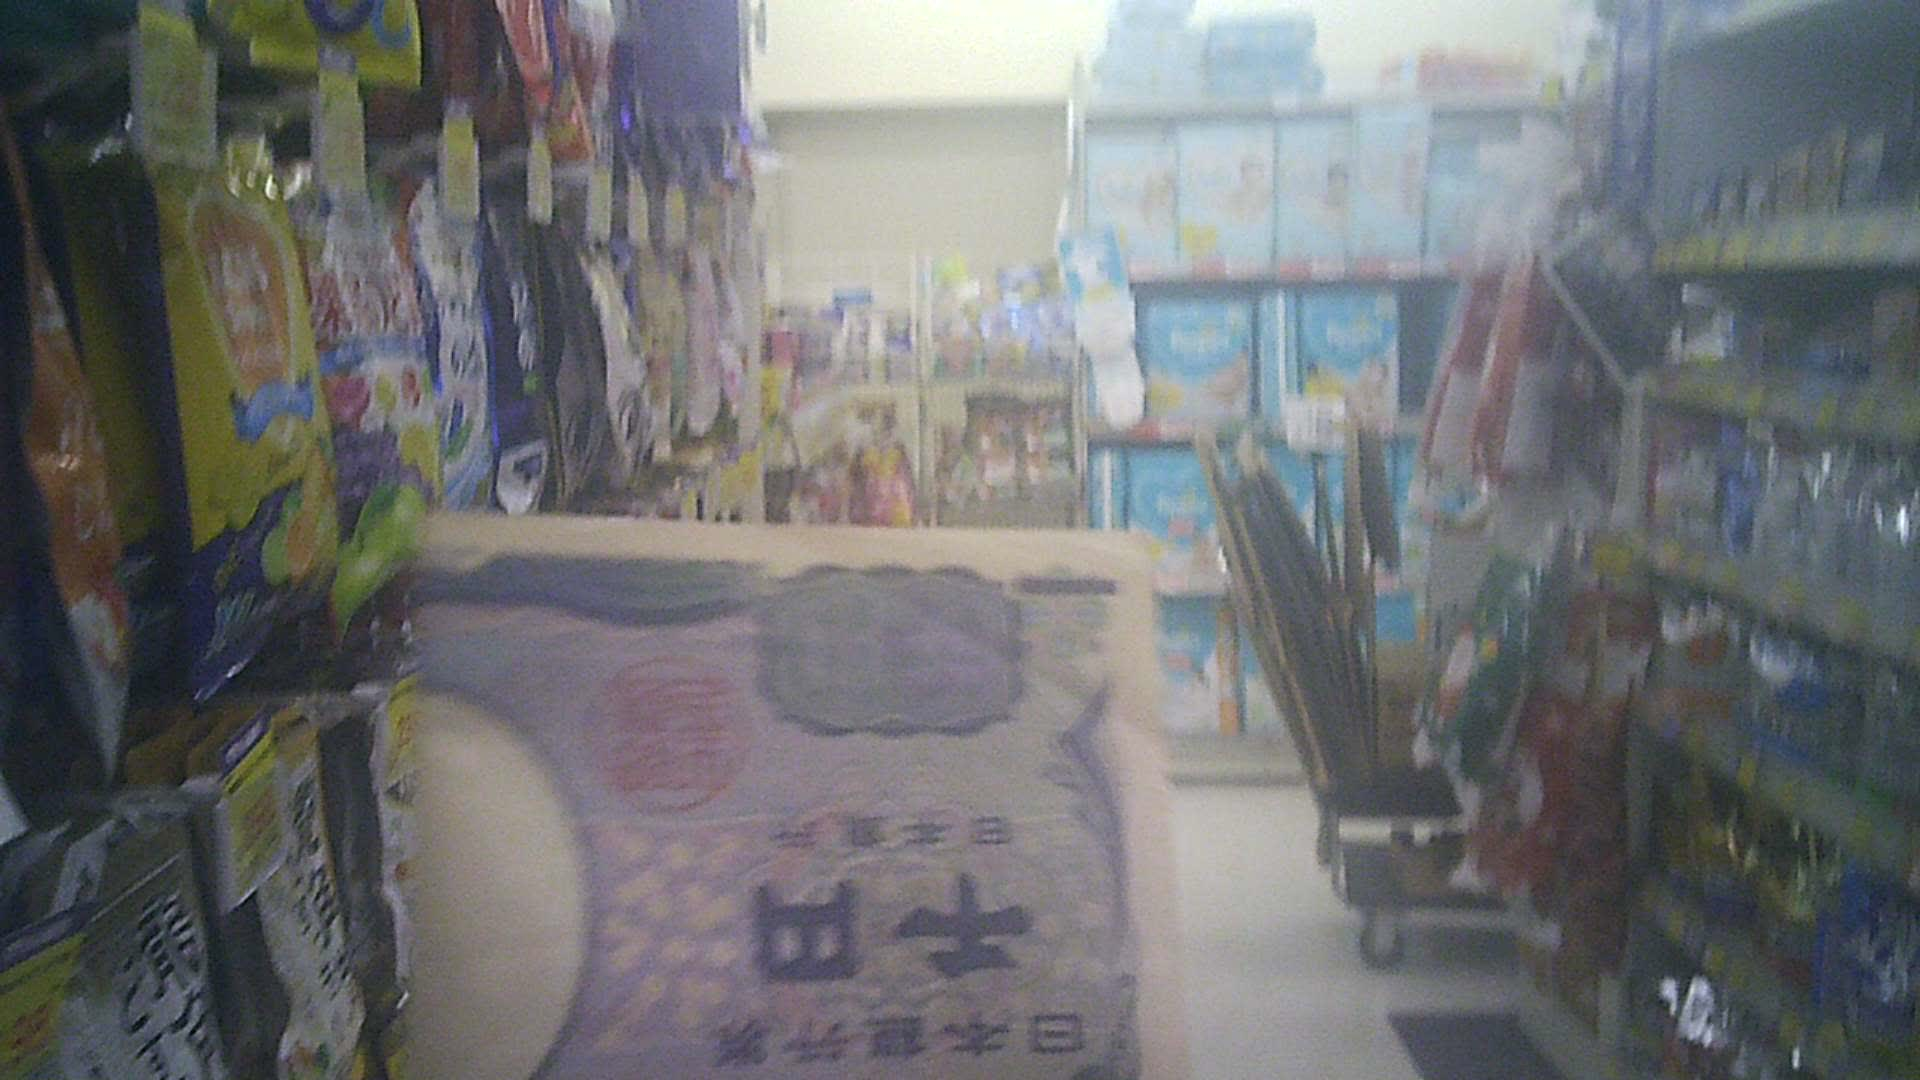1,000 Yen: (404, 514, 1218, 1058)
